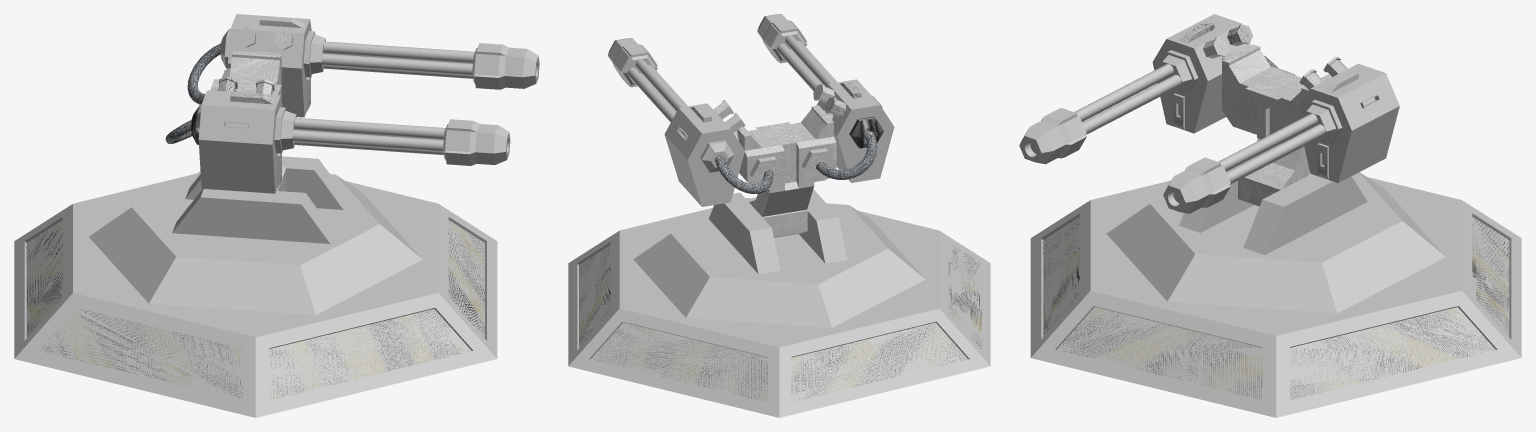
File: Auto gun turret.dae
3 views of the same model, side by side, from view 1: azimuth 30°, elevation 25°; view 2: azimuth 150°, elevation 25°; view 3: azimuth 270°, elevation 25° (orthographic). The views are drawn at different scales.
Visible parts, largest first — view 1: Component_11 (×5), Rotating_Base, Machin_gun (×4), Component_8 (×2), Component_3 (×6), Gun_head (×2), Component_12, Component_7; view 2: Component_11 (×5), Rotating_Base, Machin_gun (×2), Component_12, Component_8 (×2), Component_3 (×4), Gun_head (×2), Component_7 (×2), Component_5 (×2), Component_4 (×2); view 3: Component_11 (×5), Rotating_Base, Machin_gun (×4), Component_12, Component_8 (×2), Component_3 (×4), Gun_head (×2).
Boxes of the visible parts, <box> form: Component_11 (×5): <box>14,173,497,417</box>; Rotating_Base: <box>89,171,422,314</box>; Machin_gun (×4): <box>198,14,325,193</box>; Component_8 (×2): <box>172,156,347,243</box>; Component_3 (×6): <box>292,41,474,154</box>; Gun_head (×2): <box>443,43,539,165</box>; Component_12: <box>217,50,285,191</box>; Component_7: <box>187,43,220,104</box>; Component_11 (×5): <box>568,197,990,417</box>; Rotating_Base: <box>633,198,925,327</box>; Machin_gun (×2): <box>664,79,894,206</box>; Component_12: <box>737,105,836,237</box>; Component_8 (×2): <box>709,189,847,274</box>; Component_3 (×4): <box>627,35,834,122</box>; Gun_head (×2): <box>608,14,807,87</box>; Component_7 (×2): <box>715,131,877,193</box>; Component_5 (×2): <box>749,148,836,188</box>; Component_4 (×2): <box>700,116,883,172</box>; Component_11 (×5): <box>1030,177,1521,417</box>; Rotating_Base: <box>1106,172,1445,313</box>; Machin_gun (×4): <box>1152,14,1399,182</box>; Component_12: <box>1222,44,1331,206</box>; Component_8 (×2): <box>1179,160,1367,254</box>; Component_3 (×4): <box>1074,64,1325,182</box>; Gun_head (×2): <box>1019,108,1230,213</box>.
Size of the model in its own units: 76.38 by 67.69 by 37.36.
